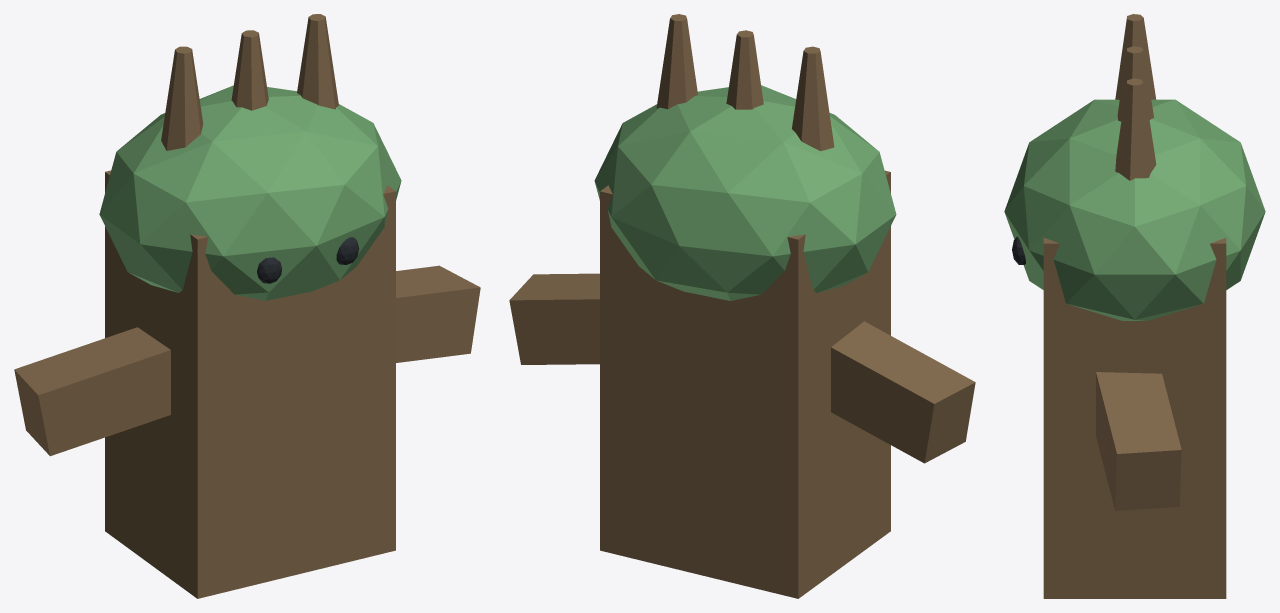
The model's file is windwood-ancient-wood-guardian.glb.
The picture shows the model from 3 angles, left to right: view 1: azimuth 30°, elevation 25°; view 2: azimuth 150°, elevation 25°; view 3: azimuth 270°, elevation 25°; orthographic projection.
Parts seen in each view (by area): view 1: trunk, crown, branch_arm, branch_arm.001, crown_branch, crown_branch.002, crown_branch.001; view 2: trunk, crown, branch_arm, branch_arm.001, crown_branch, crown_branch.002, crown_branch.001; view 3: trunk, crown, branch_arm.001, crown_branch.002, crown_branch, crown_branch.001.
Part boxes in pixels (x1,y1,x2,y2): trunk: (105, 170, 395, 598); crown: (99, 85, 401, 300); branch_arm: (14, 327, 170, 456); branch_arm.001: (396, 265, 480, 362); crown_branch: (161, 46, 203, 150); crown_branch.002: (297, 14, 338, 109); crown_branch.001: (231, 30, 268, 110); trunk: (600, 170, 890, 598); crown: (594, 85, 896, 300); branch_arm: (831, 321, 975, 463); branch_arm.001: (509, 273, 599, 364); crown_branch: (792, 46, 834, 151); crown_branch.002: (656, 14, 697, 109); crown_branch.001: (726, 30, 763, 109); trunk: (1043, 238, 1226, 598); crown: (1004, 99, 1265, 320); branch_arm.001: (1096, 372, 1181, 510); crown_branch.002: (1115, 78, 1156, 180); crown_branch: (1115, 14, 1156, 99); crown_branch.001: (1117, 46, 1153, 121).
Bounding box in the file's own units: 2.32 × 2.54 × 1.2.
